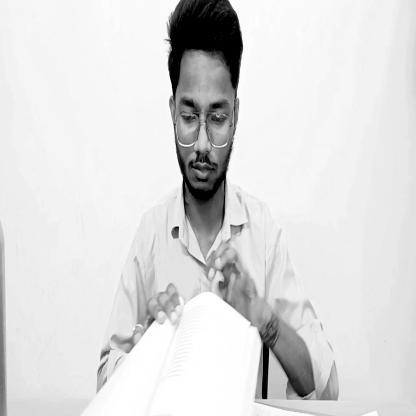Normal: (163, 0, 247, 203)
